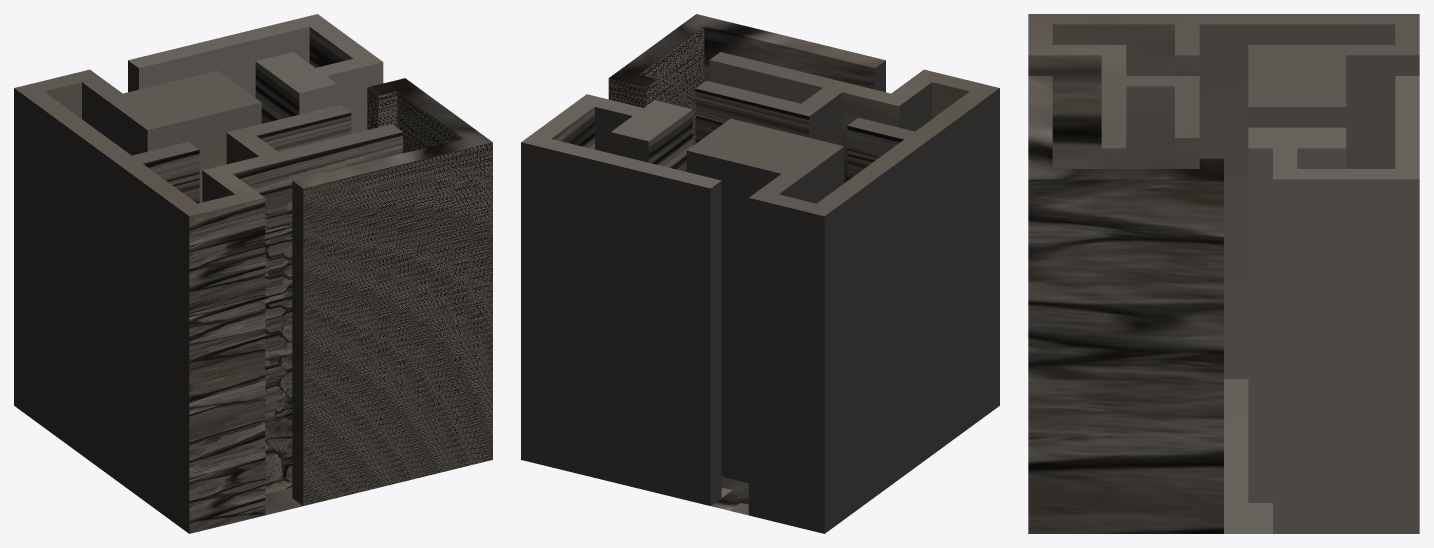
Rendered from TBlockTempTile.fbx.
The picture shows the model from 3 angles, left to right: view 1: azimuth 30°, elevation 25°; view 2: azimuth 150°, elevation 25°; view 3: azimuth 270°, elevation 25°; orthographic projection. The views are drawn at different scales.
Visible parts, largest first — view 1: Plane; view 2: Plane; view 3: Plane.
Boxes of the visible parts, left/top/right/bottom form: Plane: left=14, top=14, right=492, bottom=533; Plane: left=521, top=14, right=999, bottom=533; Plane: left=1028, top=14, right=1419, bottom=533.
Bounding box in the file's own units: 1600 × 1600 × 1600.
